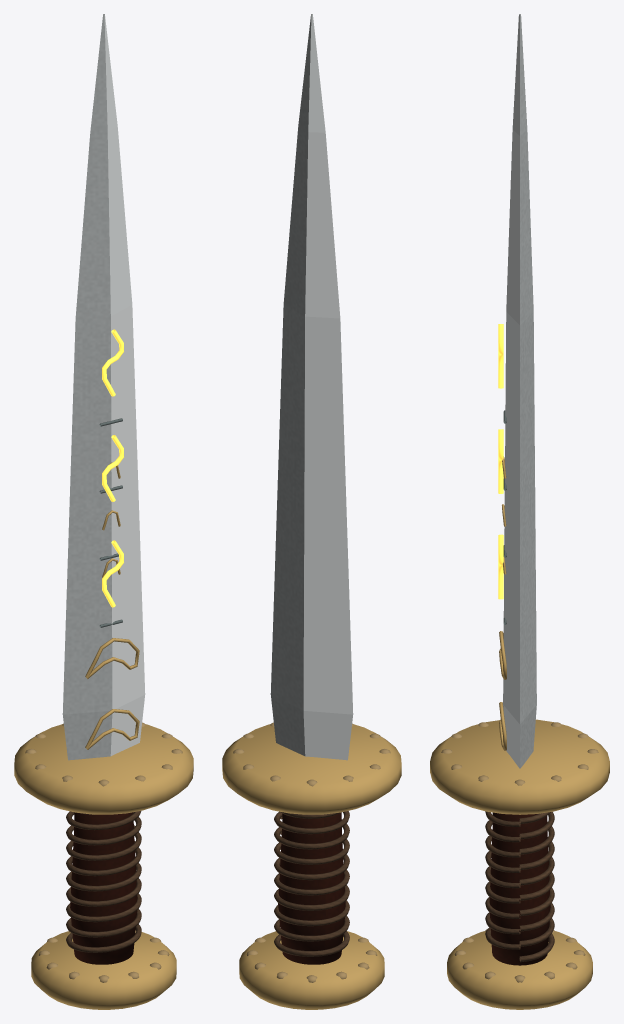
Rendered from dagger.glb.
The picture shows the model from 3 angles, left to right: view 1: azimuth 30°, elevation 25°; view 2: azimuth 150°, elevation 25°; view 3: azimuth 270°, elevation 25°; orthographic projection.
Parts seen in each view (by area): view 1: Blade, Part_Fitting metal.001, Part_Grip leather, Part_Oak cut edge.001, Part_Fitting metal, Part_Inscription, Part_Aged brass.001; view 2: Blade, Part_Fitting metal.001, Part_Grip leather, Part_Oak cut edge.001, Part_Aged brass.001; view 3: Part_Fitting metal.001, Blade, Part_Grip leather, Part_Oak cut edge.001, Part_Inscription, Part_Aged brass.001, Part_Fitting metal.
Boxes of the visible parts, left/top/right/bottom form: Blade: left=62, top=14, right=145, bottom=760; Part_Fitting metal.001: left=14, top=724, right=193, bottom=1009; Part_Grip leather: left=70, top=812, right=137, bottom=964; Part_Oak cut edge.001: left=66, top=811, right=141, bottom=952; Part_Fitting metal: left=85, top=462, right=139, bottom=749; Part_Inscription: left=102, top=329, right=123, bottom=607; Part_Aged brass.001: left=25, top=722, right=182, bottom=982; Blade: left=270, top=14, right=353, bottom=760; Part_Fitting metal.001: left=222, top=724, right=401, bottom=1009; Part_Grip leather: left=278, top=812, right=345, bottom=964; Part_Oak cut edge.001: left=274, top=811, right=349, bottom=956; Part_Aged brass.001: left=233, top=722, right=390, bottom=982; Part_Fitting metal.001: left=430, top=719, right=609, bottom=1009; Blade: left=503, top=14, right=536, bottom=768; Part_Grip leather: left=489, top=812, right=550, bottom=965; Part_Oak cut edge.001: left=485, top=811, right=554, bottom=962; Part_Inscription: left=498, top=324, right=503, bottom=599; Part_Aged brass.001: left=441, top=722, right=598, bottom=982; Part_Fitting metal: left=499, top=456, right=506, bottom=750.
Size of the model in its own units: 0.17 by 1.02 by 0.17.
Materials: 8 (3 with a texture image).
